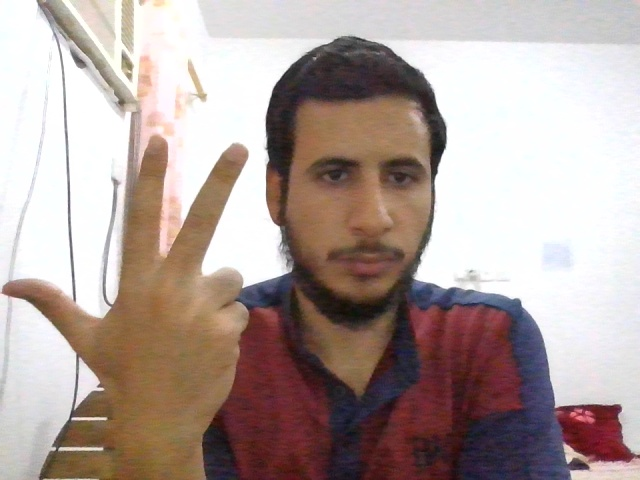Three: (1, 134, 250, 421)
